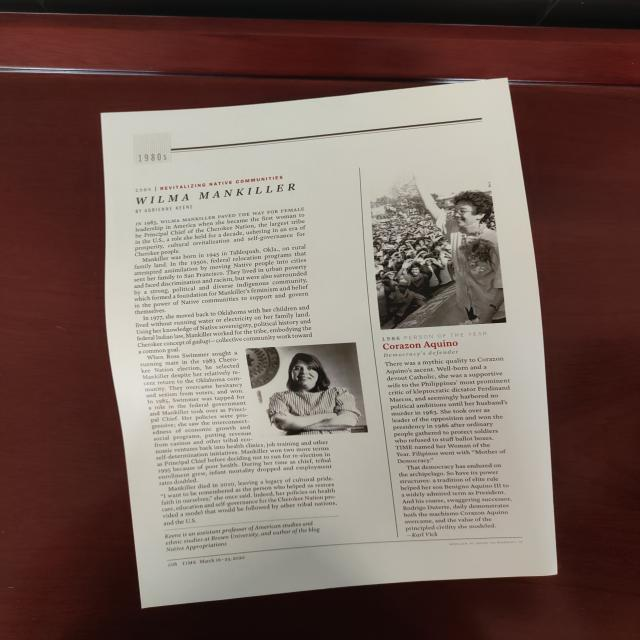document: (102, 79, 556, 606)
